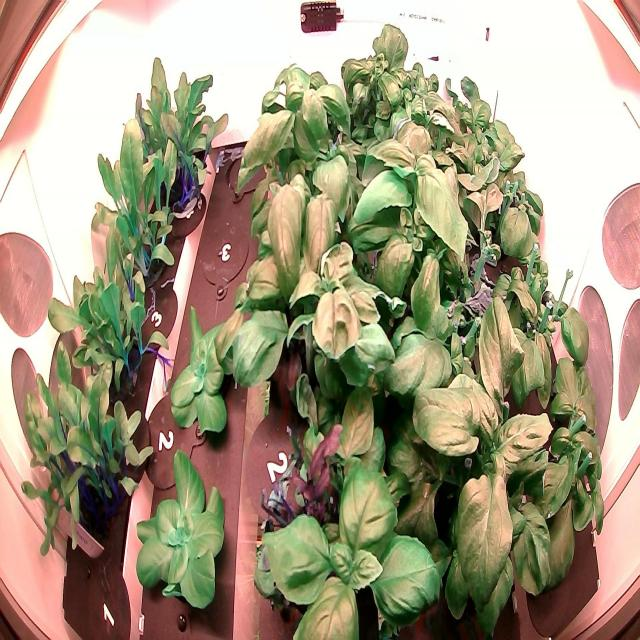empty_pod: (196, 211, 250, 301), (224, 132, 276, 211)
young: (130, 446, 233, 614), (169, 298, 248, 436)
